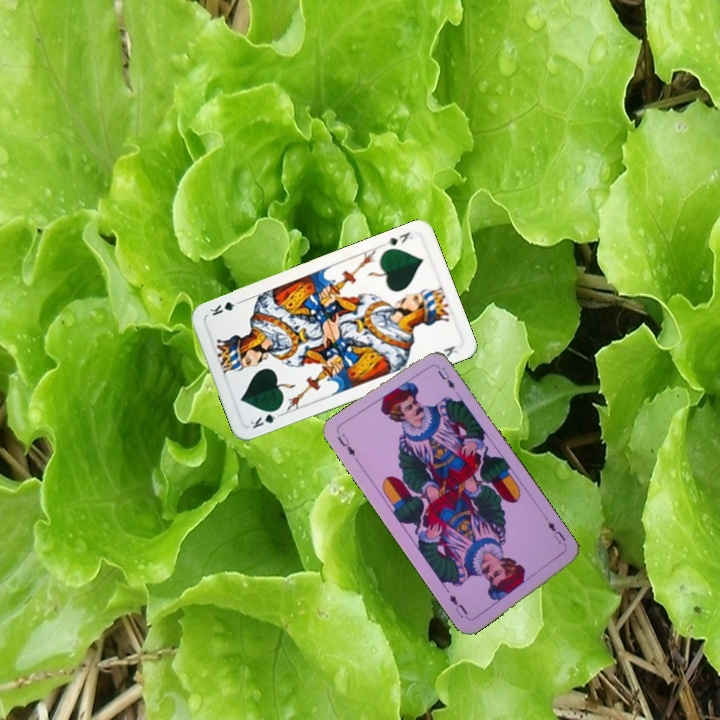EU: (542, 515, 570, 552), (333, 429, 357, 458)
GK: (246, 405, 282, 431), (382, 228, 416, 248)
